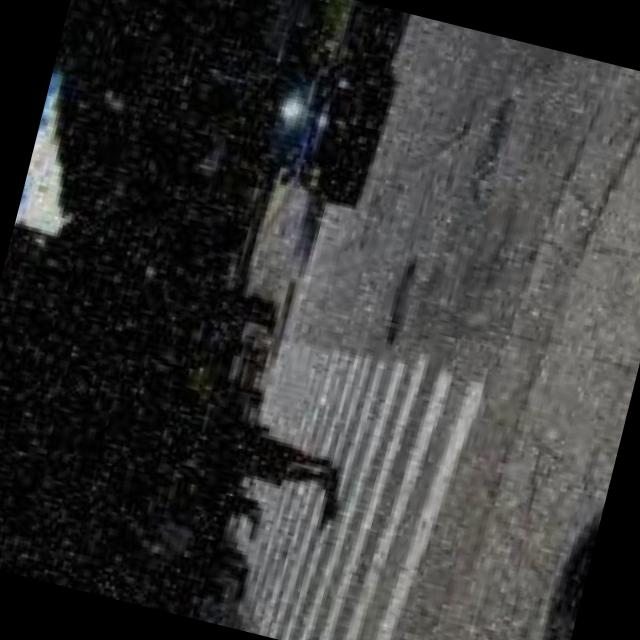zebra: (218, 337, 487, 640)
